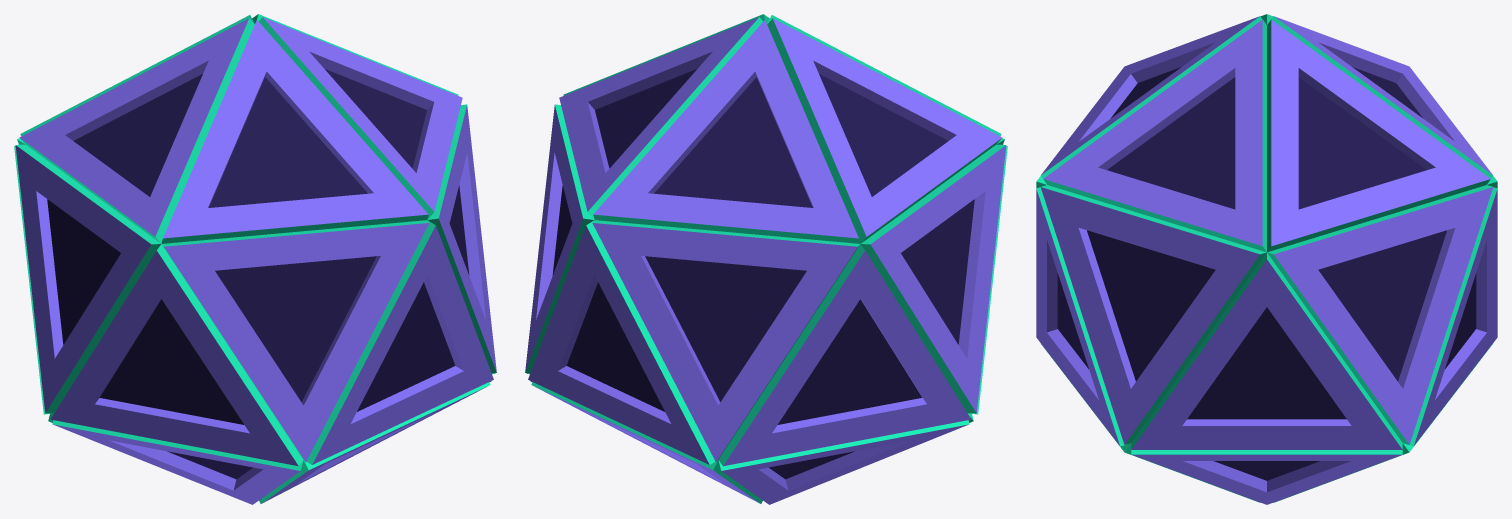
File: Dice.fbx
The picture shows the model from 3 angles, left to right: view 1: azimuth 30°, elevation 25°; view 2: azimuth 150°, elevation 25°; view 3: azimuth 270°, elevation 25°; orthographic projection.
Parts seen in each view (by area): view 1: Icosphere; view 2: Icosphere; view 3: Icosphere.
Boxes of the visible parts, bbox=[...] form: Icosphere: bbox=[14, 14, 496, 504]; Icosphere: bbox=[525, 14, 1007, 504]; Icosphere: bbox=[1036, 14, 1497, 504].
Size of the model in its own units: 188 by 207 by 179.
